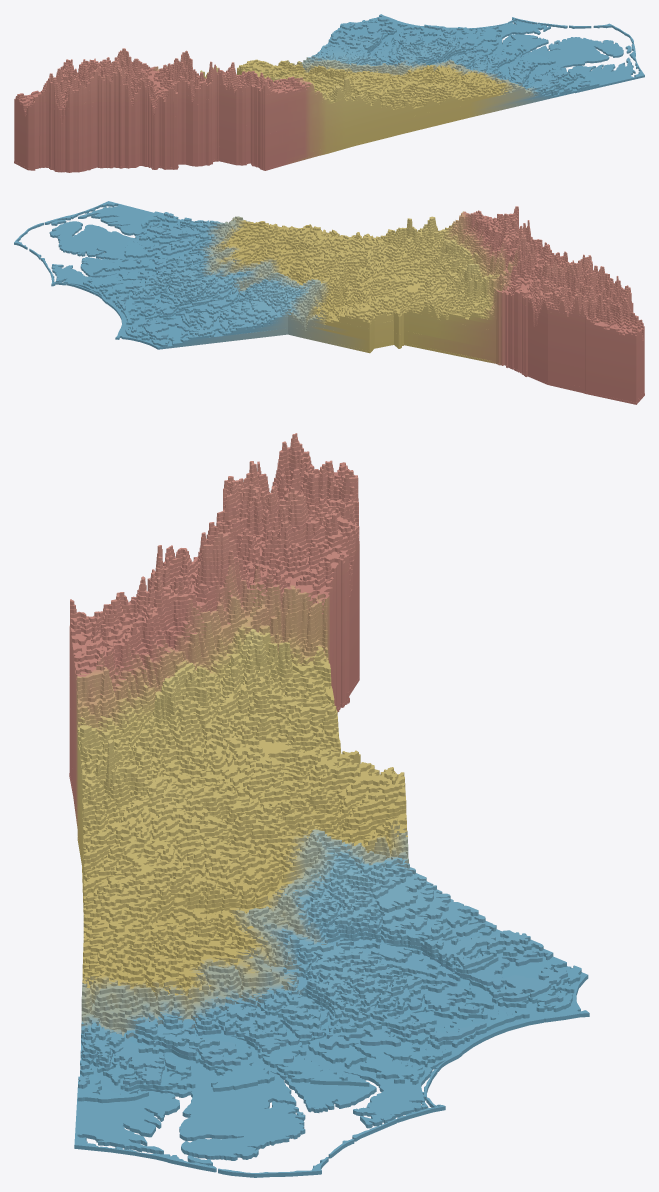
The model's file is nc-topo-layered.glb.
3 renders of one model, top to bottom at view 1: azimuth 30°, elevation 25°; view 2: azimuth 150°, elevation 25°; view 3: azimuth 270°, elevation 25°, orthographic. The views are drawn at different scales.
Parts seen in each view (by area): view 1: layer_00_base, layer_01_0025ft, layer_02_0050ft, layer_03_0075ft, layer_04_0100ft, layer_05_0125ft, layer_10_0300ft, layer_11_0350ft, layer_09_0250ft, layer_08_0200ft, layer_06_0150ft, layer_12_0400ft (+37 smaller); view 2: layer_00_base, layer_01_0025ft, layer_02_0050ft, layer_03_0075ft, layer_04_0100ft, layer_05_0125ft, layer_10_0300ft, layer_09_0250ft, layer_11_0350ft, layer_08_0200ft, layer_17_0650ft, layer_06_0150ft (+37 smaller); view 3: layer_00_base, layer_01_0025ft, layer_02_0050ft, layer_03_0075ft, layer_04_0100ft, layer_10_0300ft, layer_05_0125ft, layer_09_0250ft, layer_17_0650ft, layer_11_0350ft, layer_18_0700ft, layer_19_0750ft (+37 smaller).
Boxes of the visible parts, left/top/right/bottom form: layer_00_base: left=14, top=14, right=644, bottom=172; layer_01_0025ft: left=14, top=17, right=599, bottom=170; layer_02_0050ft: left=14, top=17, right=589, bottom=168; layer_03_0075ft: left=14, top=30, right=560, bottom=167; layer_04_0100ft: left=14, top=32, right=547, bottom=165; layer_05_0125ft: left=14, top=41, right=540, bottom=163; layer_10_0300ft: left=14, top=55, right=507, bottom=153; layer_11_0350ft: left=14, top=54, right=492, bottom=151; layer_09_0250ft: left=14, top=56, right=521, bottom=155; layer_08_0200ft: left=14, top=51, right=524, bottom=157; layer_06_0150ft: left=14, top=44, right=525, bottom=161; layer_12_0400ft: left=14, top=54, right=488, bottom=150; layer_00_base: left=14, top=201, right=644, bottom=404; layer_01_0025ft: left=83, top=211, right=644, bottom=402; layer_02_0050ft: left=117, top=212, right=644, bottom=400; layer_03_0075ft: left=135, top=220, right=644, bottom=398; layer_04_0100ft: left=149, top=220, right=644, bottom=396; layer_05_0125ft: left=158, top=220, right=644, bottom=394; layer_10_0300ft: left=239, top=220, right=644, bottom=384; layer_09_0250ft: left=222, top=216, right=644, bottom=386; layer_11_0350ft: left=248, top=222, right=644, bottom=382; layer_08_0200ft: left=212, top=217, right=644, bottom=388; layer_17_0650ft: left=308, top=226, right=644, bottom=370; layer_06_0150ft: left=180, top=221, right=644, bottom=392; layer_00_base: left=69, top=676, right=589, bottom=1177; layer_01_0025ft: left=69, top=673, right=581, bottom=1103; layer_02_0050ft: left=69, top=669, right=567, bottom=1088; layer_03_0075ft: left=69, top=665, right=543, bottom=1062; layer_04_0100ft: left=69, top=661, right=530, bottom=1043; layer_10_0300ft: left=69, top=639, right=409, bottom=983; layer_05_0125ft: left=69, top=658, right=478, bottom=1032; layer_09_0250ft: left=69, top=642, right=415, bottom=996; layer_17_0650ft: left=69, top=612, right=398, bottom=888; layer_11_0350ft: left=69, top=635, right=407, bottom=966; layer_18_0700ft: left=69, top=608, right=359, bottom=854; layer_19_0750ft: left=69, top=605, right=359, bottom=838.
Size of the model in its own units: 10 by 1.65 by 3.81.
